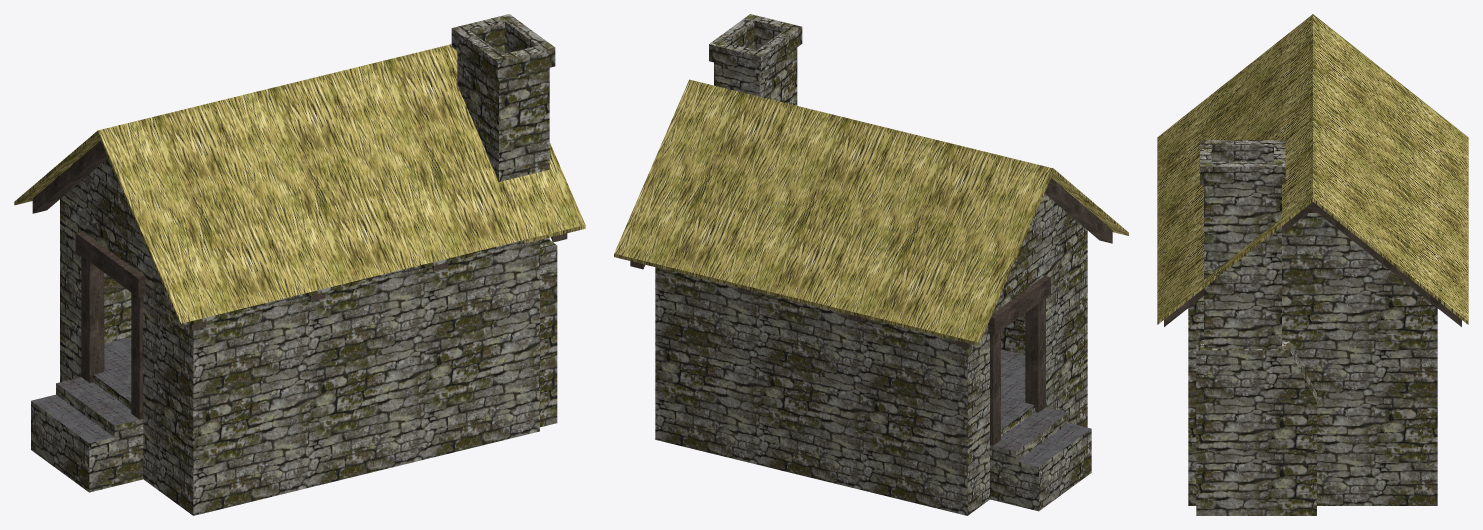
The model's file is hovels_small_cottage.glb.
The picture shows the model from 3 angles, left to right: view 1: azimuth 30°, elevation 25°; view 2: azimuth 150°, elevation 25°; view 3: azimuth 270°, elevation 25°; orthographic projection. The views are drawn at different scales.
Parts seen in each view (by area): view 1: small_cottage; view 2: small_cottage; view 3: small_cottage.
Boxes of the visible parts, left/top/right/bottom form: small_cottage: left=14, top=14, right=585, bottom=515; small_cottage: left=614, top=14, right=1128, bottom=515; small_cottage: left=1157, top=14, right=1468, bottom=515.
Size of the model in its own units: 14.88 by 12.38 by 10.
Materials: 4 (4 with a texture image).
